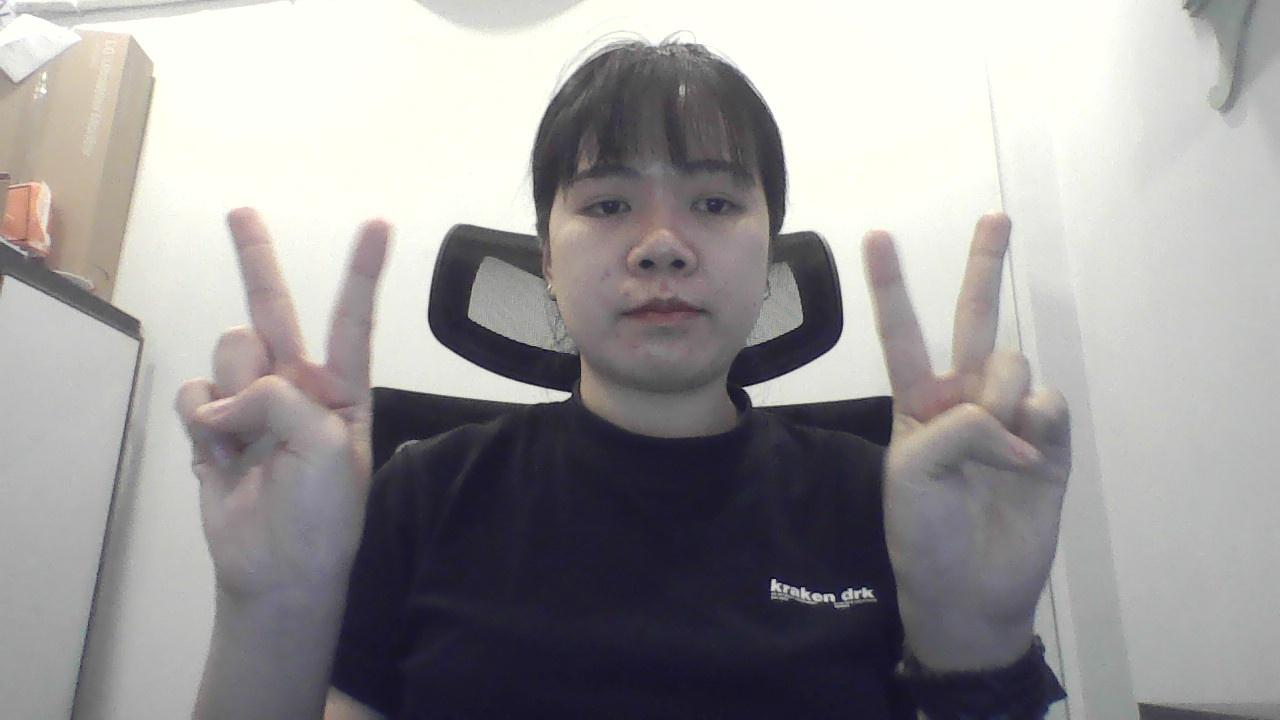V: (859, 195, 1087, 631), (177, 192, 394, 610)
